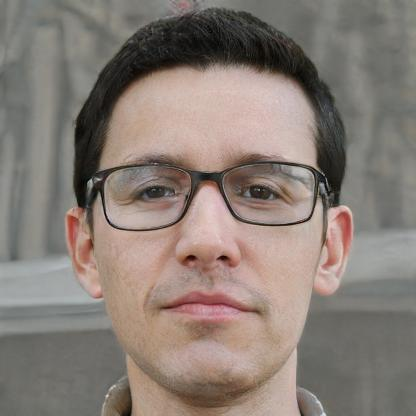glasses: (84, 156, 328, 232)
